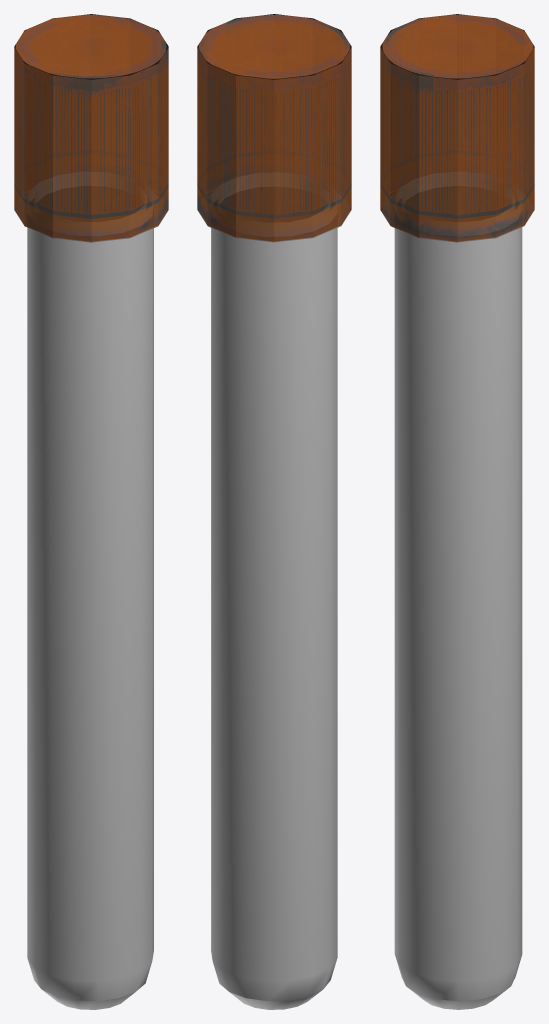
The model's file is tubes2.fbx.
3 views of the same model, side by side, from view 1: azimuth 30°, elevation 25°; view 2: azimuth 150°, elevation 25°; view 3: azimuth 270°, elevation 25° (orthographic).
Parts seen in each view (by area): view 1: tubes2; view 2: tubes2; view 3: tubes2.
Boxes of the visible parts, x1,y1,x2,y2 form: tubes2: (14, 14, 168, 1009); tubes2: (197, 14, 351, 1009); tubes2: (380, 14, 534, 1009).
Bounding box in the file's own units: 0.0226 × 0.1536 × 0.0226.
